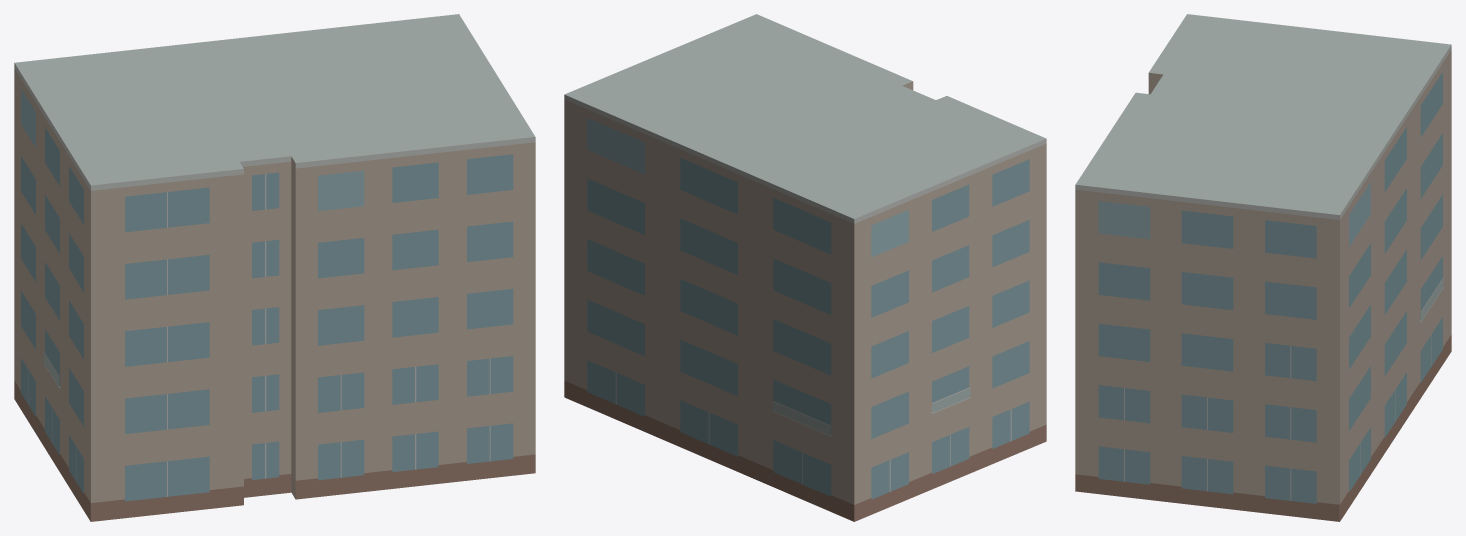
The model's file is survey-upis-32546170.glb.
The picture shows the model from 3 angles, left to right: view 1: azimuth 30°, elevation 25°; view 2: azimuth 150°, elevation 25°; view 3: azimuth 270°, elevation 25°; orthographic projection. The views are drawn at different scales.
Visible parts, largest first — view 1: survey-upis-32546170.tmp; view 2: survey-upis-32546170.tmp; view 3: survey-upis-32546170.tmp.
Part boxes in pixels (<box>): survey-upis-32546170.tmp: <box>14,14,535,521</box>; survey-upis-32546170.tmp: <box>564,14,1046,521</box>; survey-upis-32546170.tmp: <box>1075,14,1451,521</box>.
Bounding box in the file's own units: 21.46 × 15.25 × 16.96.
